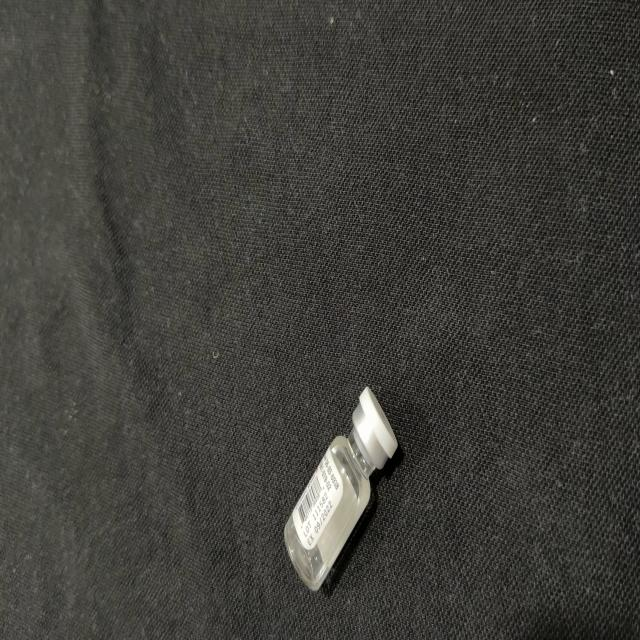fentanl_citrat: (285, 389, 397, 588)
